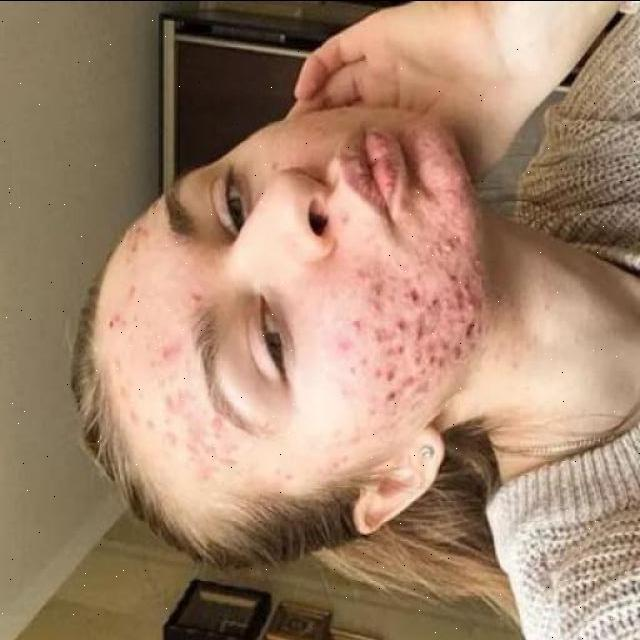Acne: (107, 218, 241, 487), (372, 145, 484, 428)
